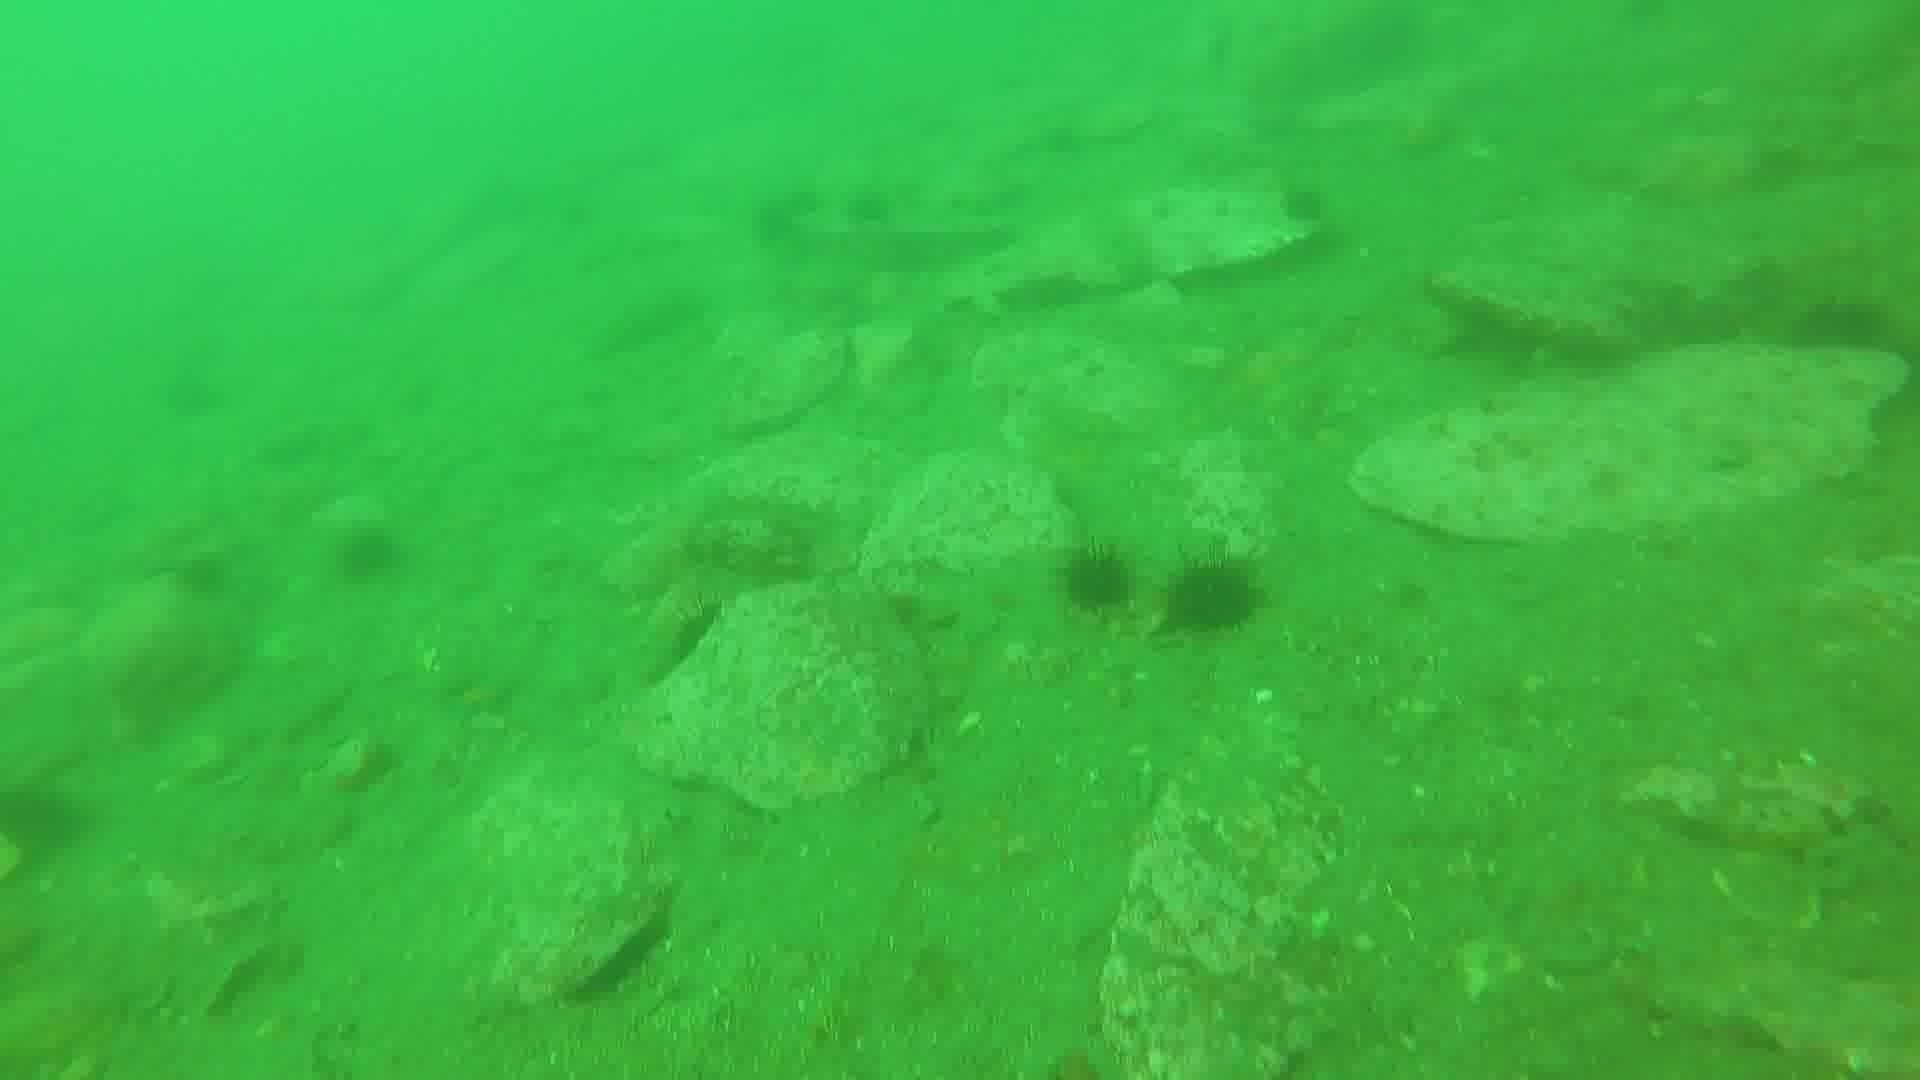echinus: (638, 585, 732, 690), (1160, 554, 1266, 644), (1, 777, 84, 870), (1054, 541, 1138, 618), (331, 520, 407, 588), (1274, 178, 1335, 229)
